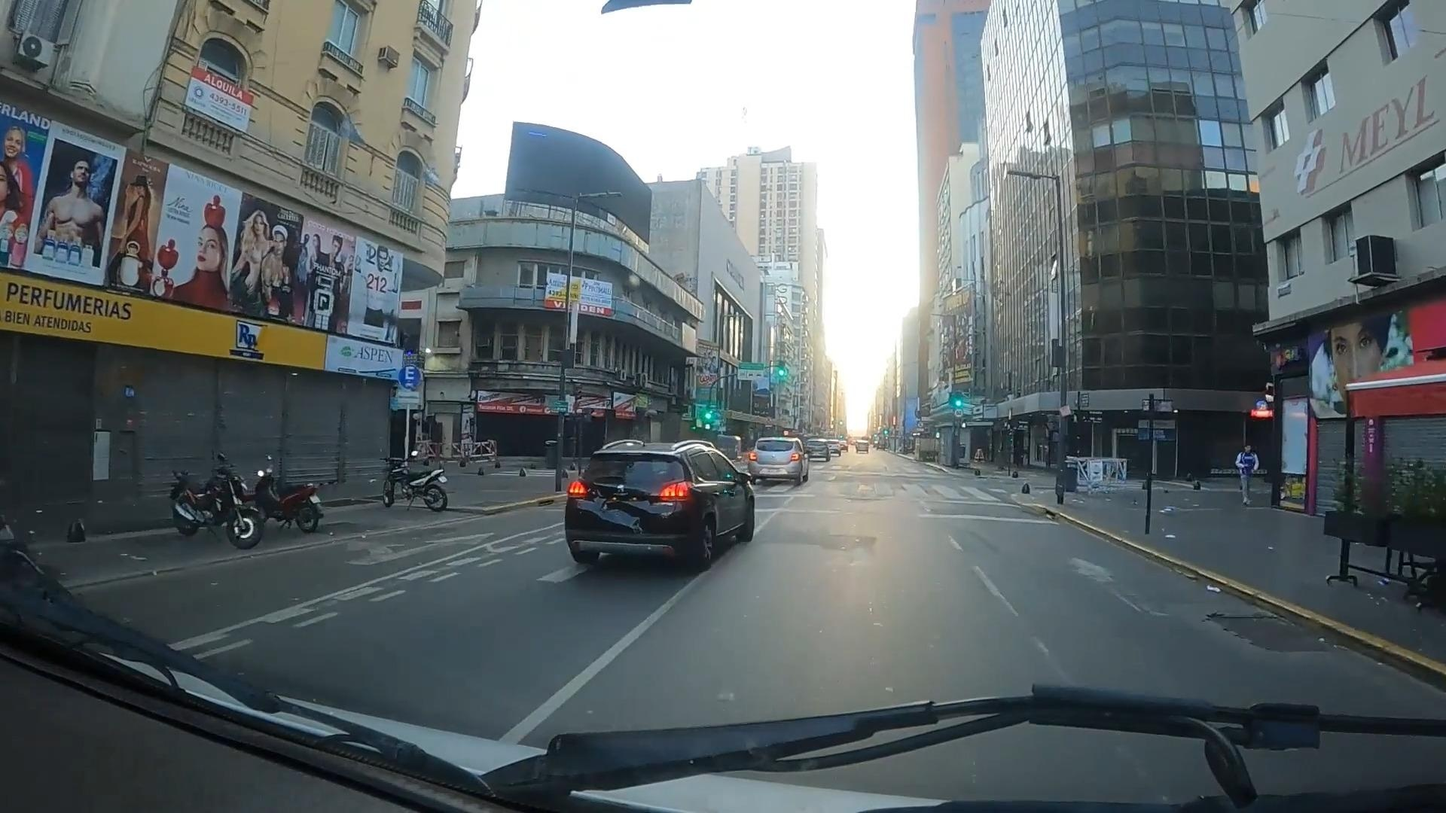dry: (38, 443, 1444, 741)
